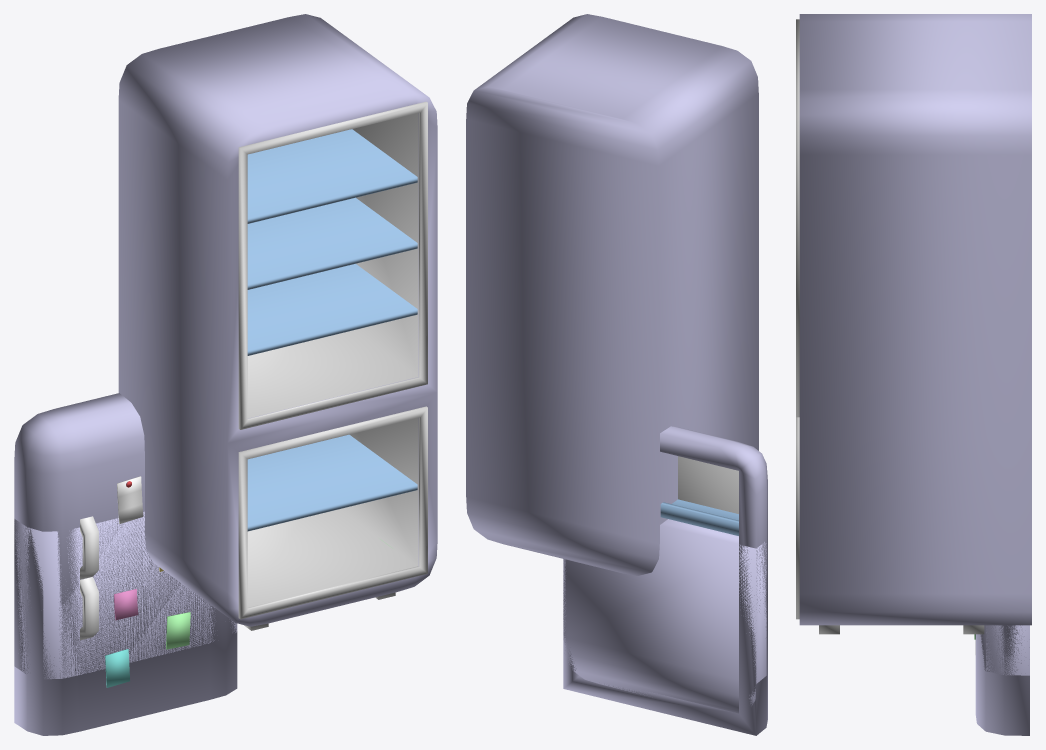
The model's file is Fridge.fbx.
3 renders of one model, left to right at view 1: azimuth 30°, elevation 25°; view 2: azimuth 150°, elevation 25°; view 3: azimuth 270°, elevation 25°, orthographic. The views are drawn at different scales.
Parts seen in each view (by area): view 1: Fridge, Fridge.Door.Upper, Fridge.Door.Lower; view 2: Fridge, Fridge.Door.Lower, Fridge.Door.Upper; view 3: Fridge, Fridge.Door.Upper, Fridge.Door.Lower.
Boxes of the visible parts, left/top/right/bottom form: Fridge: left=118, top=14, right=437, bottom=630; Fridge.Door.Upper: left=14, top=393, right=237, bottom=735; Fridge.Door.Lower: left=14, top=511, right=237, bottom=679; Fridge: left=466, top=14, right=758, bottom=575; Fridge.Door.Lower: left=563, top=519, right=766, bottom=713; Fridge.Door.Upper: left=563, top=426, right=767, bottom=735; Fridge: left=796, top=14, right=1031, bottom=634; Fridge.Door.Upper: left=974, top=625, right=1029, bottom=735; Fridge.Door.Lower: left=975, top=625, right=1029, bottom=675.
Size of the model in its own units: 125 by 242 by 76.08.
